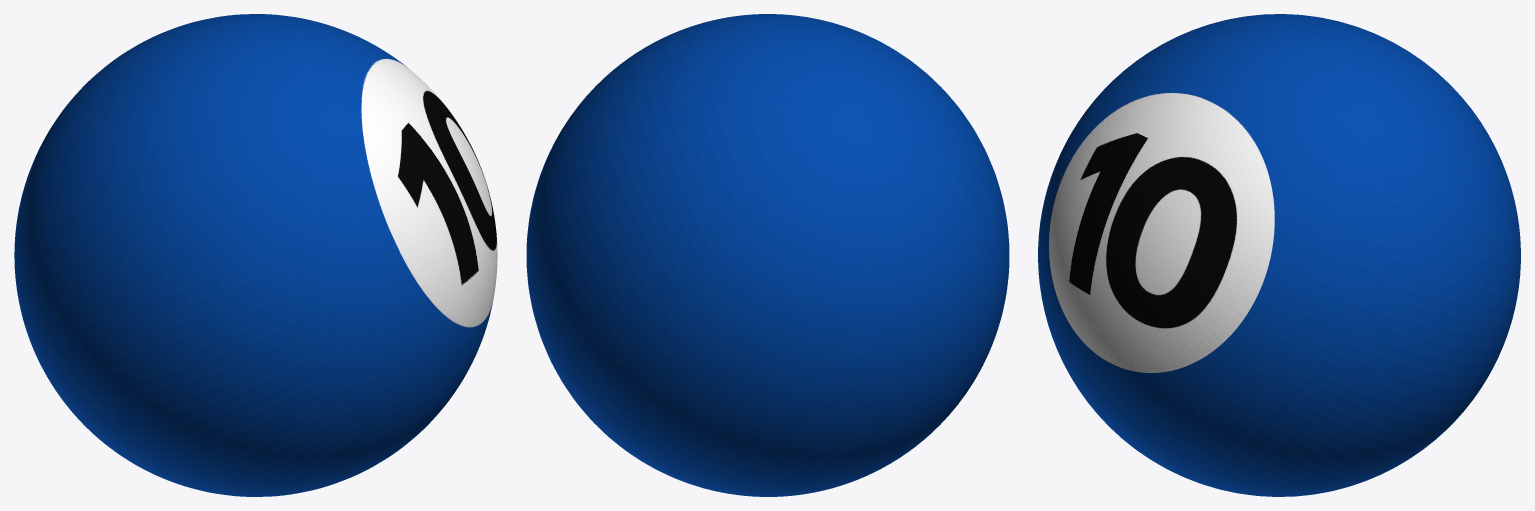
3 renders of one model, left to right at view 1: azimuth 30°, elevation 25°; view 2: azimuth 150°, elevation 25°; view 3: azimuth 270°, elevation 25°, orthographic.
Visible parts, largest first — view 1: Sphere; view 2: Sphere; view 3: Sphere.
Part boxes in pixels (box(x1,y1,x2,y2)): Sphere: box(14, 14, 497, 496); Sphere: box(526, 14, 1009, 496); Sphere: box(1038, 14, 1520, 496).
Size of the model in its own units: 3.7 by 3.7 by 3.7.
Materials: 1 (1 with a texture image).
